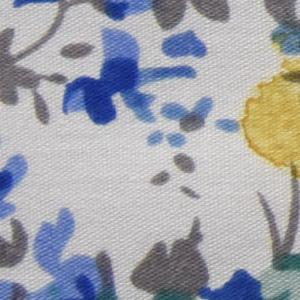Oil Stain: (237, 29, 300, 182)
